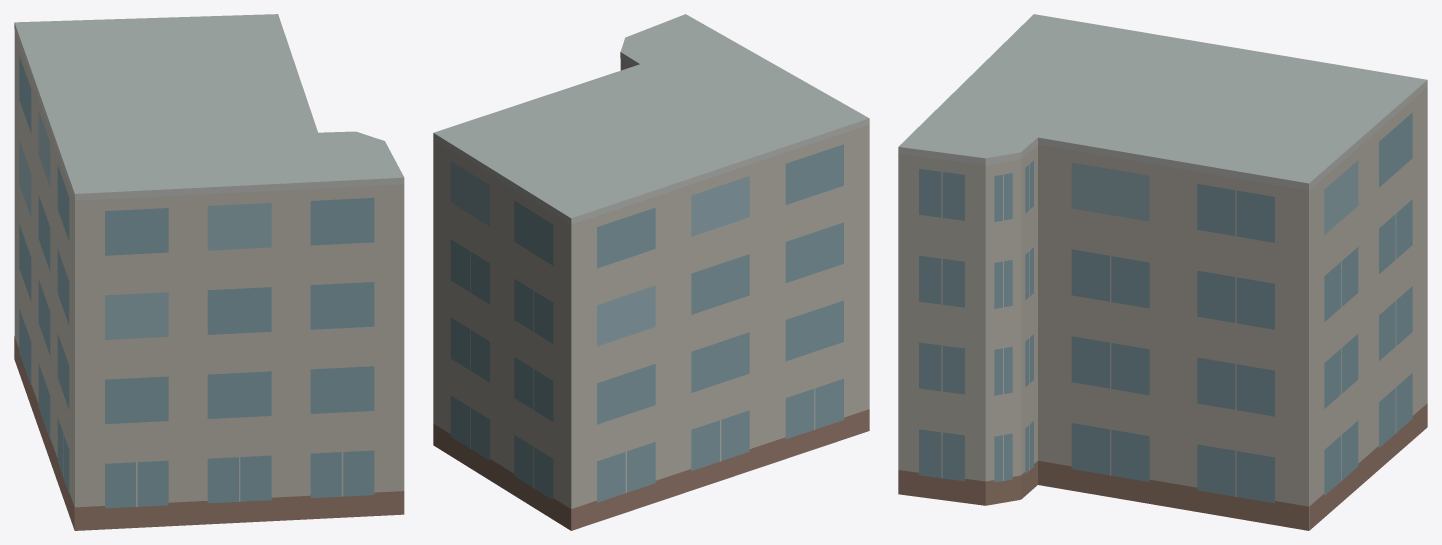
The model's file is survey-upis-32674395.glb.
3 views of the same model, side by side, from view 1: azimuth 30°, elevation 25°; view 2: azimuth 150°, elevation 25°; view 3: azimuth 270°, elevation 25° (orthographic). The views are drawn at different scales.
Visible parts, largest first — view 1: survey-upis-32674395.tmp; view 2: survey-upis-32674395.tmp; view 3: survey-upis-32674395.tmp.
Boxes of the visible parts, x1,y1,x2,y2 form: survey-upis-32674395.tmp: (14,14,404,530); survey-upis-32674395.tmp: (433,14,869,530); survey-upis-32674395.tmp: (898,14,1427,530).
Bounding box in the file's own units: 12.77 × 12.2 × 16.86.
